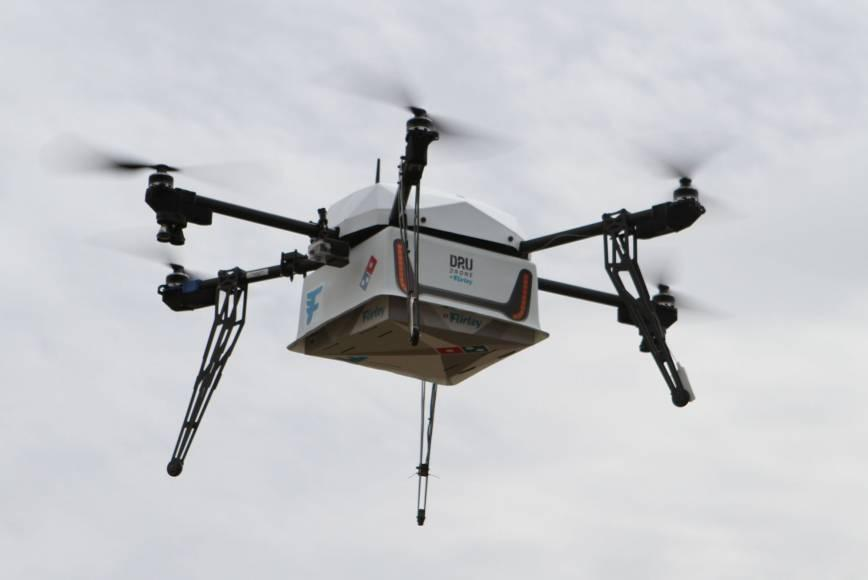UAV: (708, 296, 868, 580)
